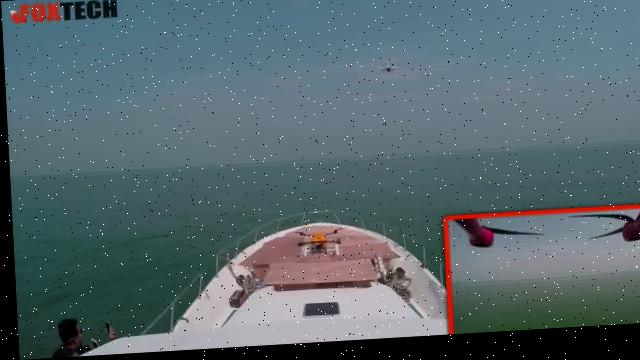drone: (278, 217, 353, 267), (366, 60, 402, 84)
